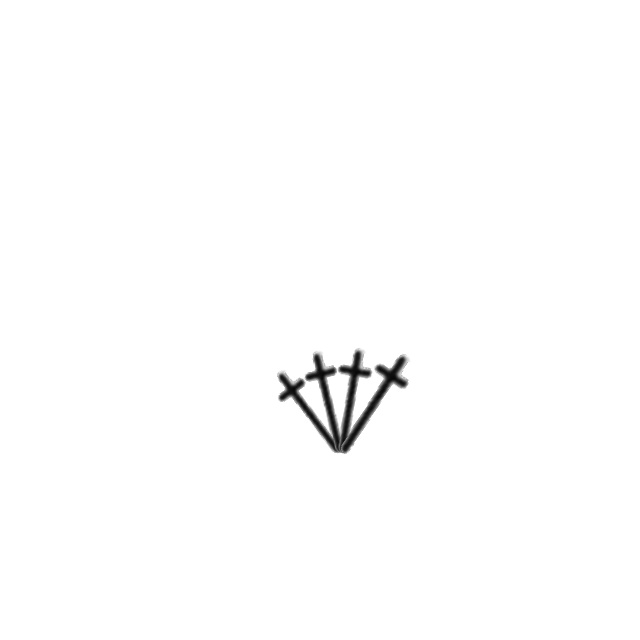double: (311, 337, 437, 475), (256, 353, 365, 472), (309, 342, 393, 461), (288, 344, 370, 461)
